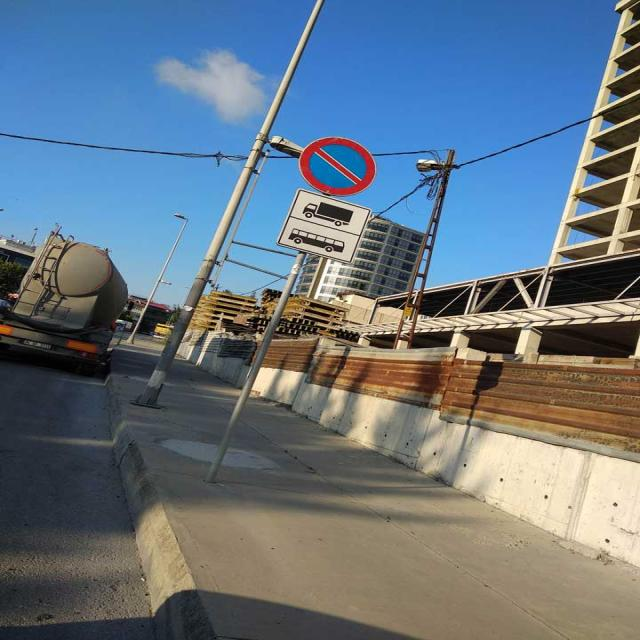parkyasak: (299, 136, 377, 196)
